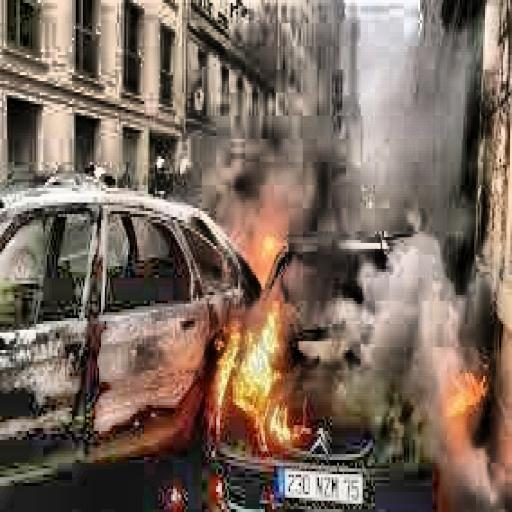fire: (197, 295, 319, 463), (438, 353, 496, 425), (243, 223, 292, 289)
